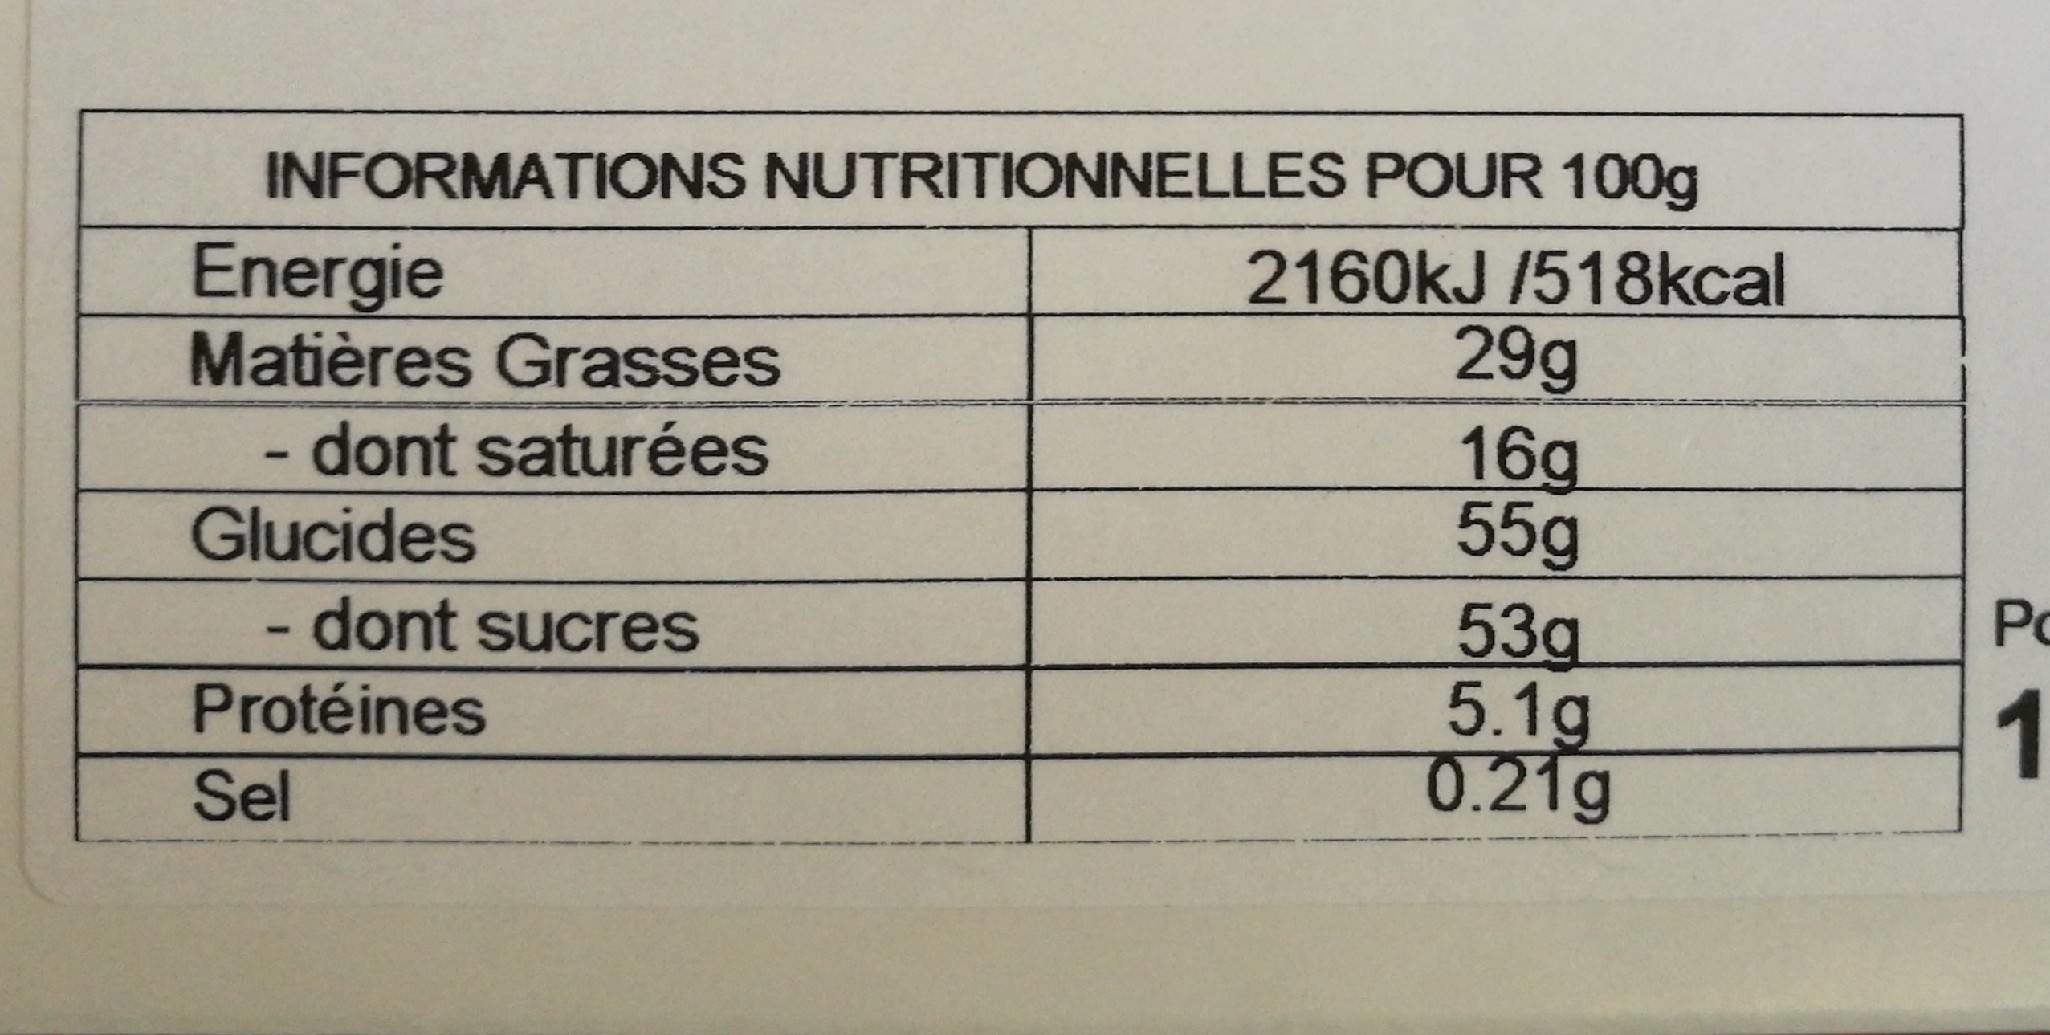column: (173, 232, 789, 836), (1242, 230, 1783, 828)
table: (71, 106, 1969, 845)
